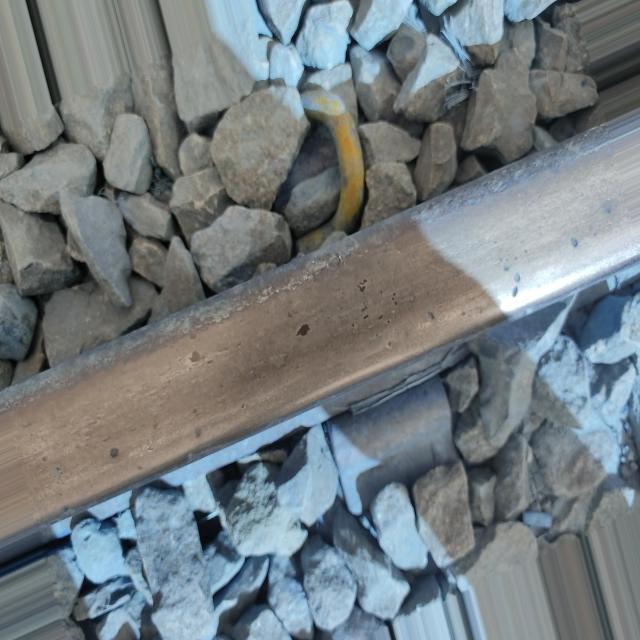squats_high: (359, 277, 399, 325), (503, 262, 521, 300), (295, 320, 311, 340), (107, 443, 123, 461), (189, 349, 202, 367), (570, 234, 580, 252), (427, 308, 435, 322)
